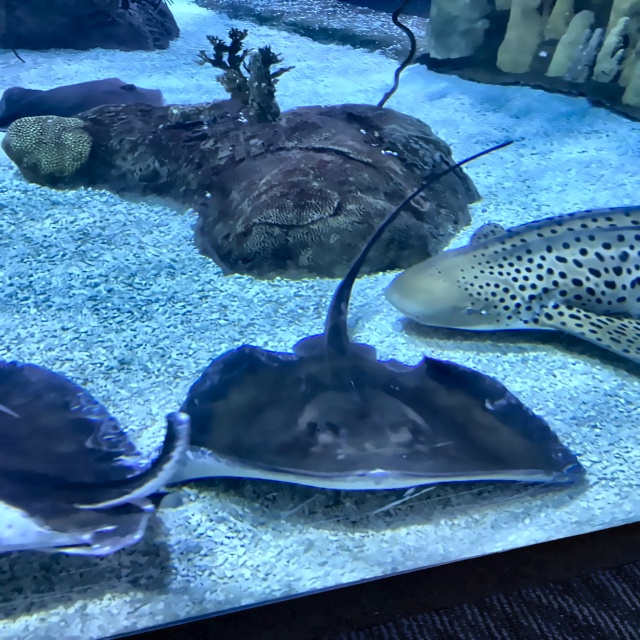shark: (385, 201, 638, 378)
stingray: (178, 334, 584, 493), (0, 361, 152, 559), (0, 78, 162, 132)
